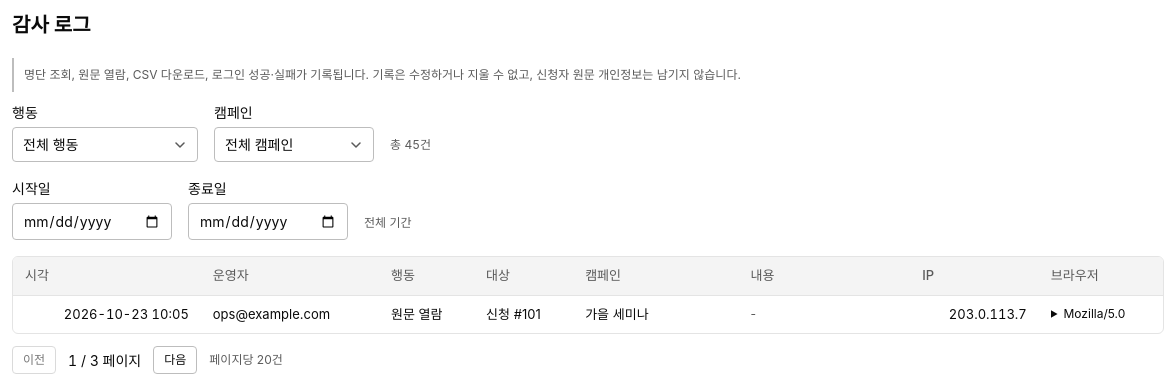
Scenario: 감사 로그 › 다음 페이지로 넘긴다
This screenshot has width=1164, height=391.
expect the list item "1 / 3 페이지" is shown: met, box [68,350,141,370]
Click the button "다음". click: (175, 360)
box: [153,346,197,374]
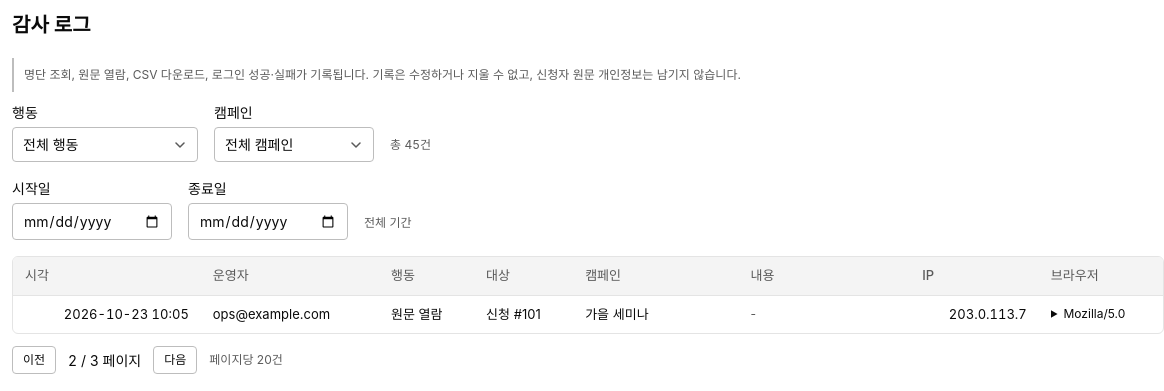
expect the list item "2 / 3 페이지" is shown: met, box [68,350,141,370]
